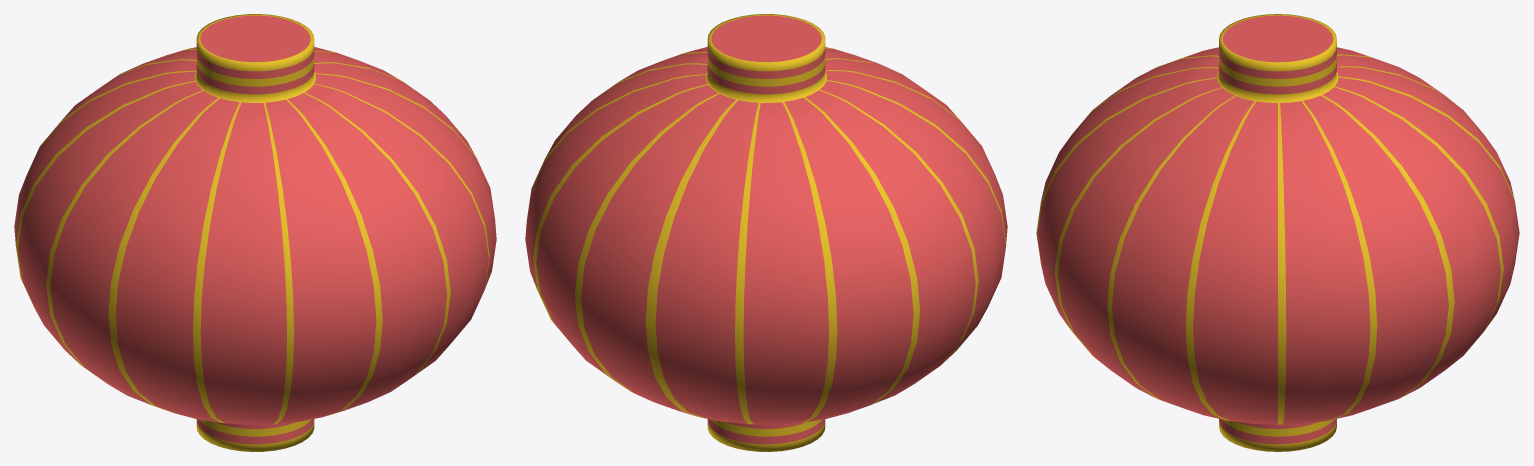
File: LanternShort.fbx
3 views of the same model, side by side, from view 1: azimuth 30°, elevation 25°; view 2: azimuth 150°, elevation 25°; view 3: azimuth 270°, elevation 25° (orthographic).
Visible parts, largest first — view 1: LanternShort; view 2: LanternShort; view 3: LanternShort.
Part boxes in pixels (x1,y1,x2,y2): LanternShort: (14,14,496,451); LanternShort: (525,14,1007,451); LanternShort: (1036,14,1519,451).
Size of the model in its own units: 44.06 by 39.06 by 44.06.
